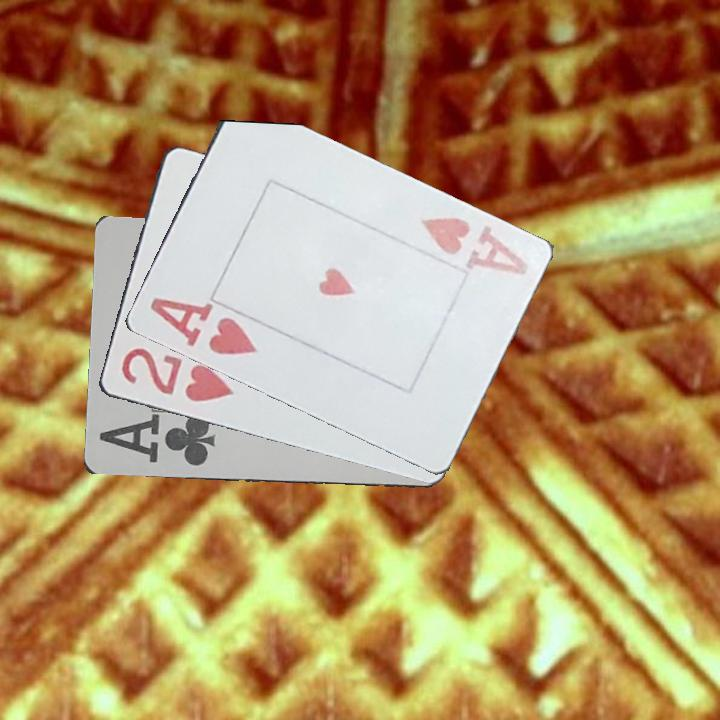2h: (117, 344, 236, 406)
Ac: (95, 414, 218, 470)
Ah: (416, 213, 532, 279), (146, 294, 260, 358)
